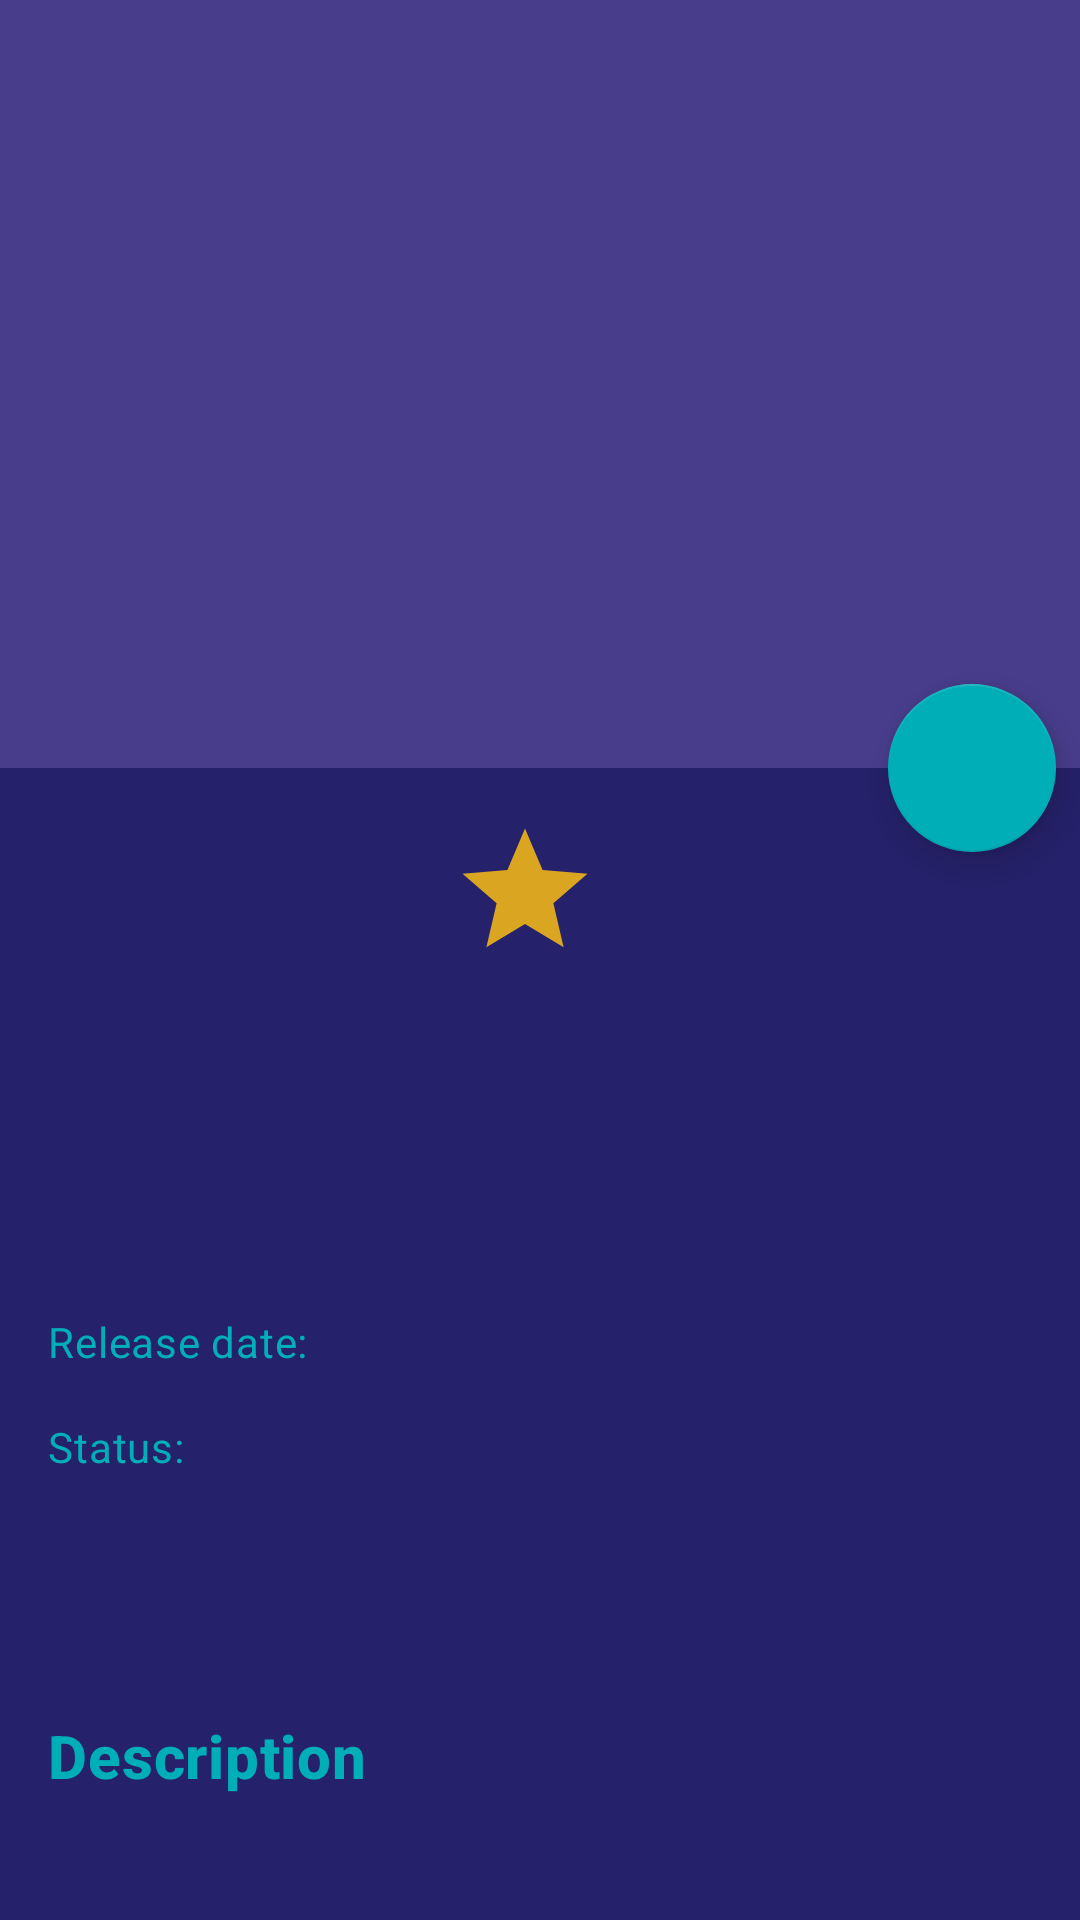

Icon click points for this 1080×1920 phone screenshot, format (x,y):
Rate: (525,888)
